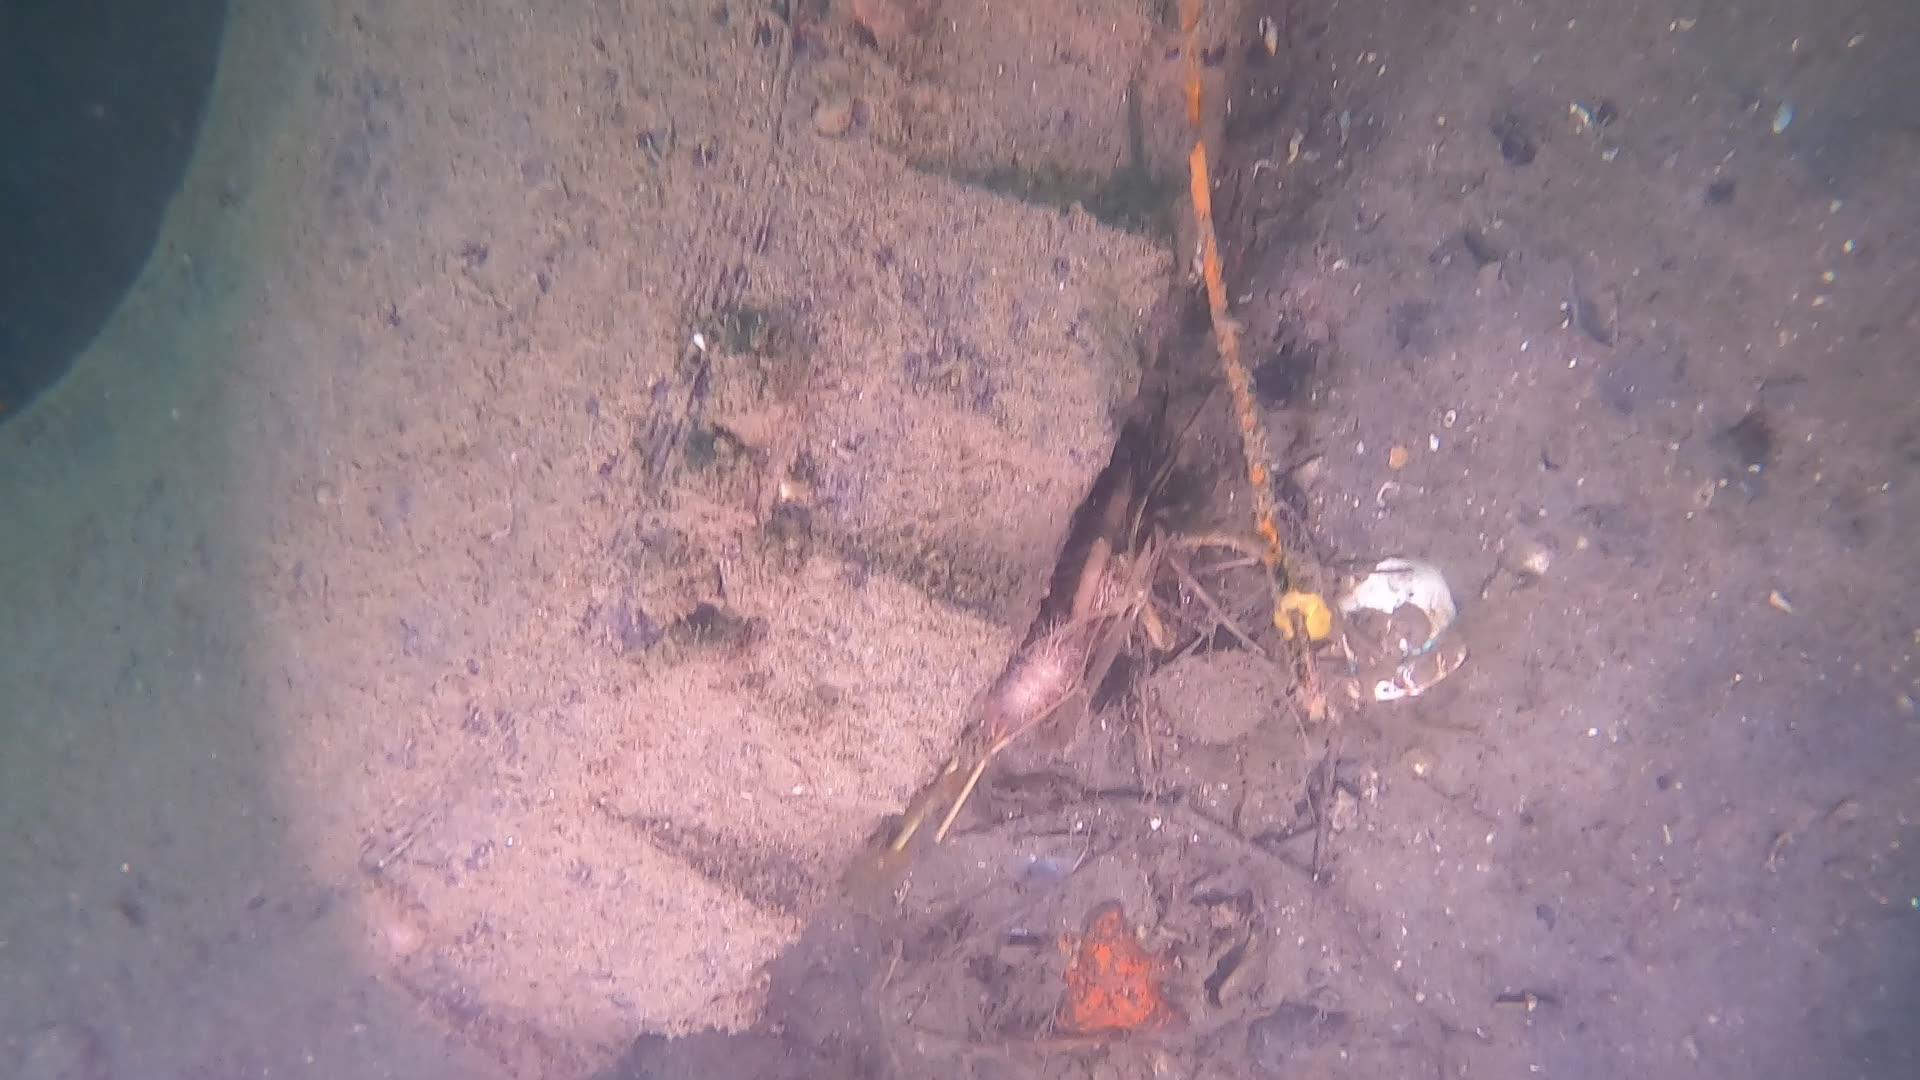other objects: (927, 37, 1531, 955)
